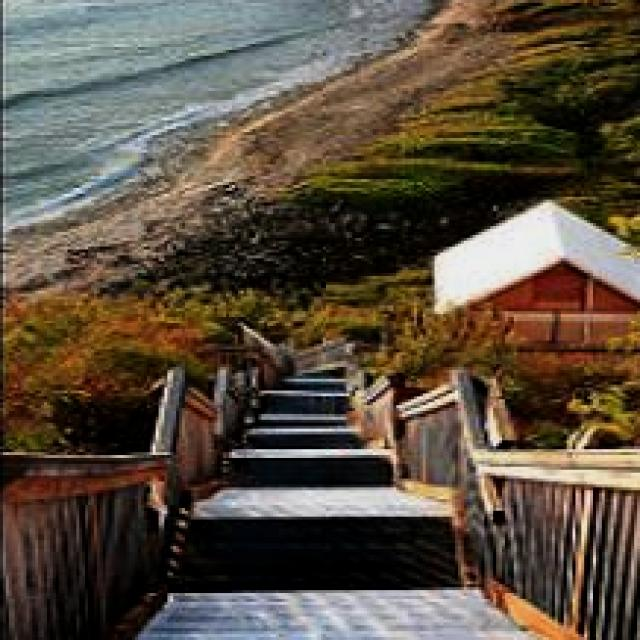upstair: (156, 354, 465, 580)
